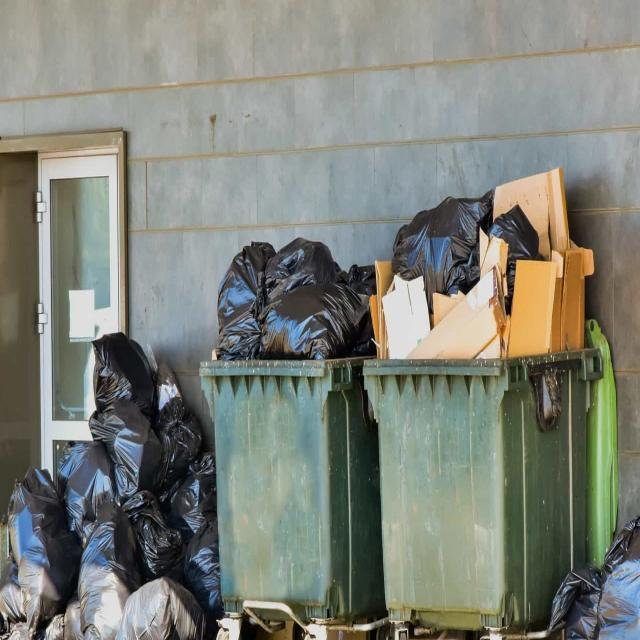garbage: (2, 328, 220, 640), (376, 160, 597, 348), (213, 232, 374, 365)
